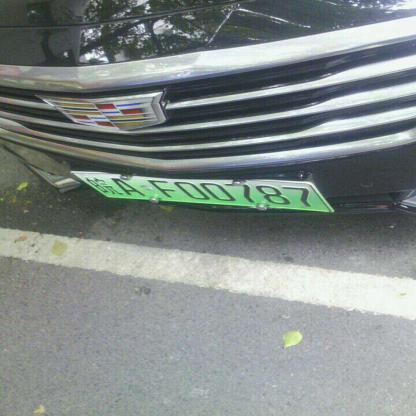lp: (70, 172, 336, 212)
